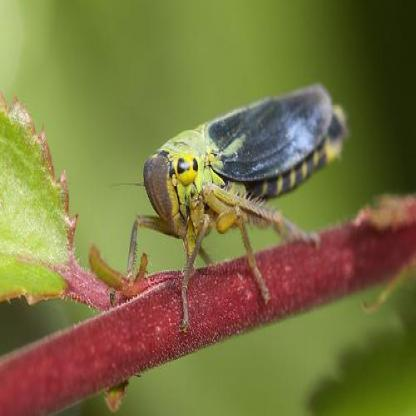Green-Leafhopper: (124, 80, 359, 326)
